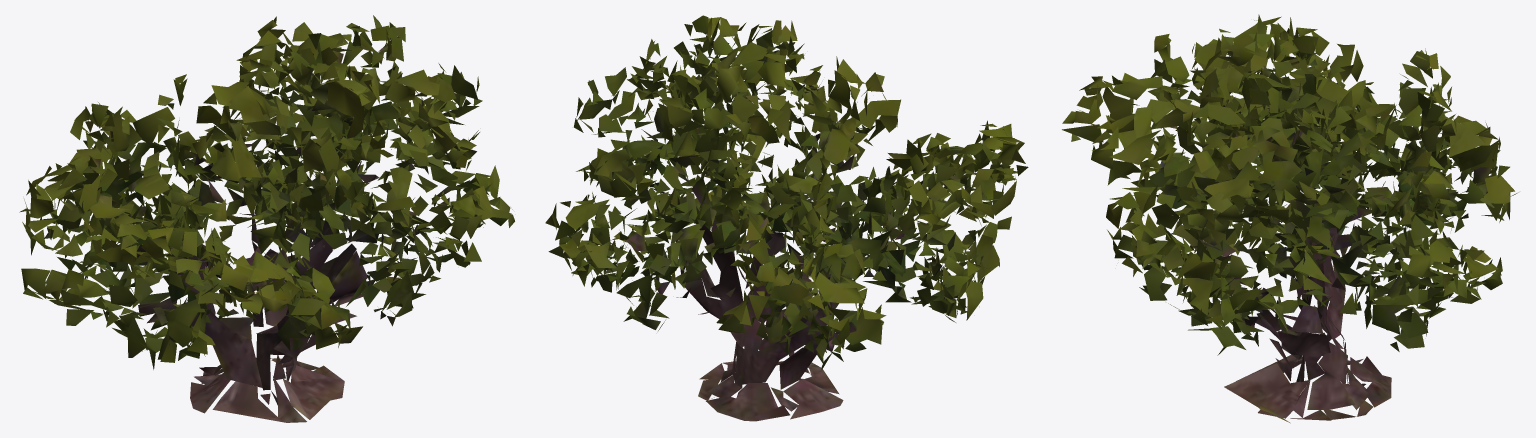
Rendered from sherwood-major-oak.glb.
3 views of the same model, side by side, from view 1: azimuth 30°, elevation 25°; view 2: azimuth 150°, elevation 25°; view 3: azimuth 270°, elevation 25° (orthographic). The views are drawn at different scales.
Parts seen in each view (by area): view 1: geometry_0; view 2: geometry_0; view 3: geometry_0.
Boxes of the visible parts, box(x1,y1,x2,y2) form: geometry_0: box(19, 15, 514, 422); geometry_0: box(545, 15, 1028, 421); geometry_0: box(1062, 14, 1518, 423).
Size of the model in its own units: 1.93 by 1.53 by 1.73.
1 material, 1 textured.
